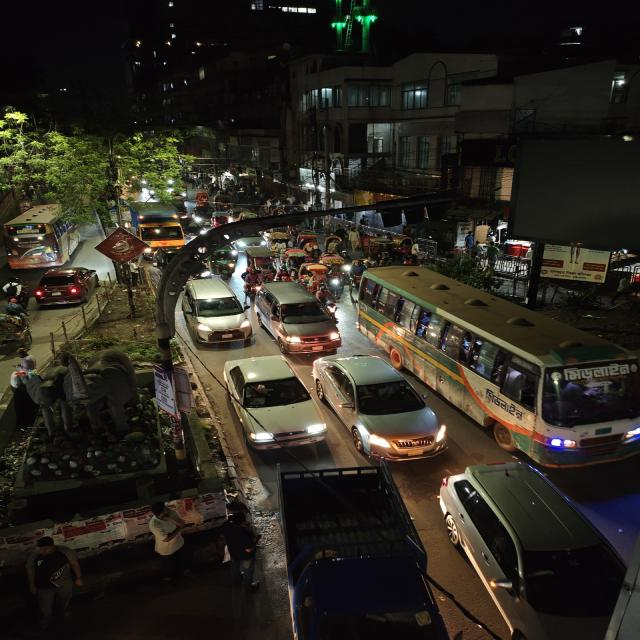bicycle: (217, 499, 262, 592)
bus: (352, 260, 639, 466), (0, 205, 86, 269)
car: (440, 461, 633, 639), (314, 352, 446, 461), (220, 354, 326, 448), (253, 279, 344, 353), (170, 276, 251, 346), (32, 264, 104, 310)
cng: (208, 248, 238, 276)
pedestrian: (16, 536, 87, 632), (141, 494, 186, 569)
pickup_van: (273, 467, 444, 640)
rickshaw: (0, 309, 37, 364), (297, 262, 334, 288), (261, 225, 295, 253), (317, 251, 351, 272)
truck: (126, 200, 194, 247)
